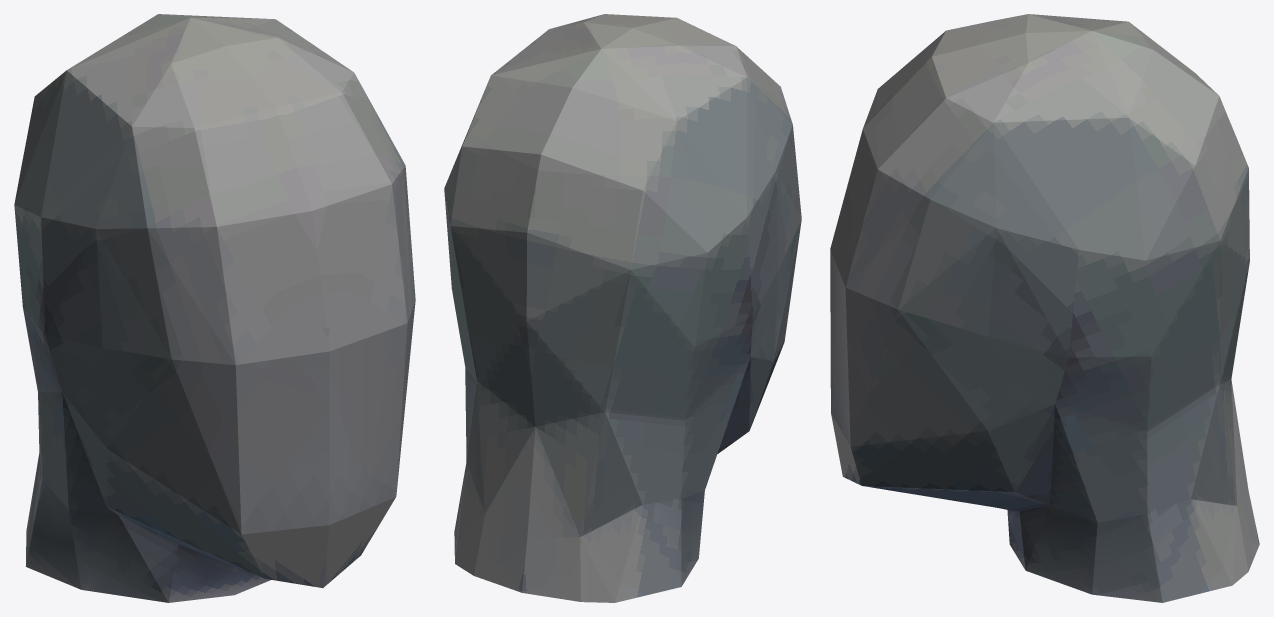
Rendered from item_mannequin_head.glb.
3 views of the same model, side by side, from view 1: azimuth 30°, elevation 25°; view 2: azimuth 150°, elevation 25°; view 3: azimuth 270°, elevation 25° (orthographic). The views are drawn at different scales.
Parts seen in each view (by area): view 1: head; view 2: head; view 3: head.
Boxes of the visible parts, x1,y1,x2,y2 form: head: [14, 14, 415, 602]; head: [444, 14, 801, 602]; head: [830, 14, 1259, 602].
Bounding box in the file's own units: 0.1711 × 0.2826 × 0.2143.
1 material, 1 textured.
